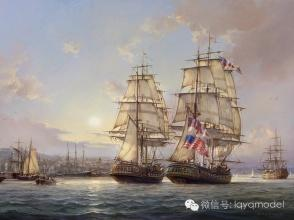fanchuan: (166, 33, 246, 185), (105, 50, 171, 184), (259, 129, 293, 181)
